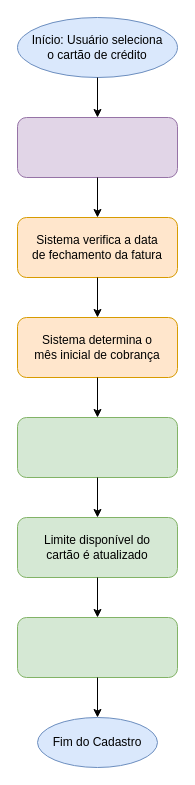
Some shapes in this 195 by 785 pixel diagram are drawn without their labels. Here are the shapes that lost their labels. From the top down, the box of each, then its label:
(16, 116, 178, 178): Informa valor, data, categoria, descrição e número de parcelas
(16, 416, 178, 478): Parcelas (1 a n) são geradas automaticamente
(16, 616, 178, 678): Informações compõem o orçamento e dashboard
